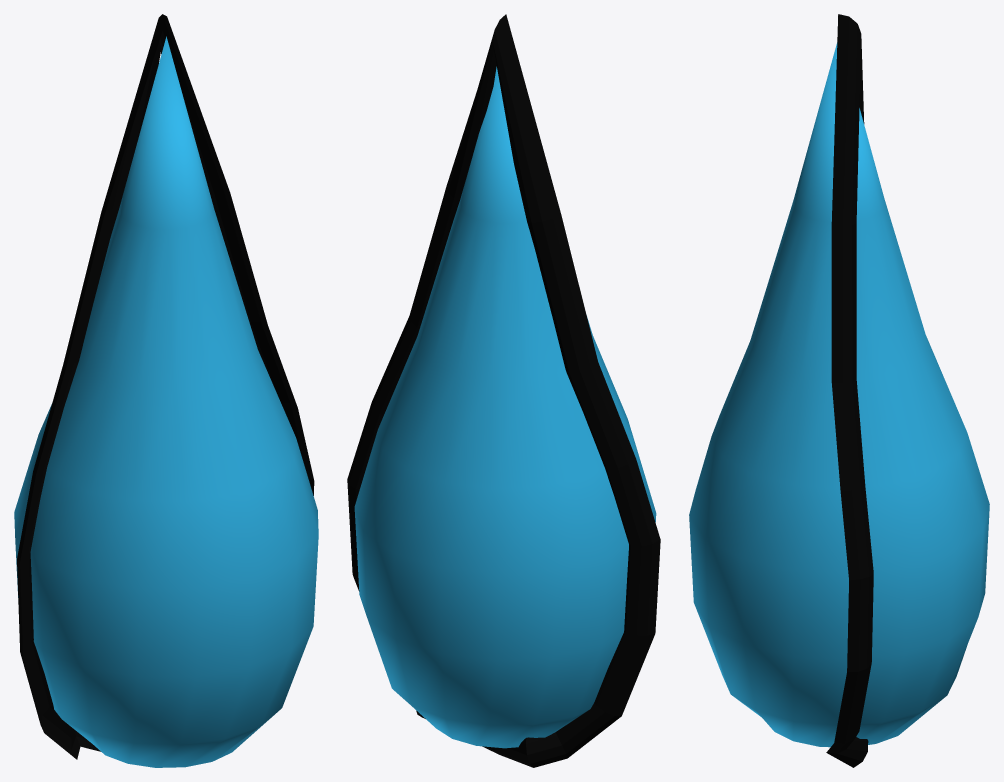
Rendered from Fighter (2) 5.fbx.
3 views of the same model, side by side, from view 1: azimuth 30°, elevation 25°; view 2: azimuth 150°, elevation 25°; view 3: azimuth 270°, elevation 25° (orthographic). The views are drawn at different scales.
Parts seen in each view (by area): view 1: LineArt.005; view 2: LineArt.005; view 3: LineArt.005.
Part boxes in pixels (x1,y1,x2,y2): LineArt.005: [14, 14, 318, 767]; LineArt.005: [347, 14, 660, 767]; LineArt.005: [689, 14, 989, 767].
Size of the model in its own units: 9.68 by 22.87 by 8.46.
